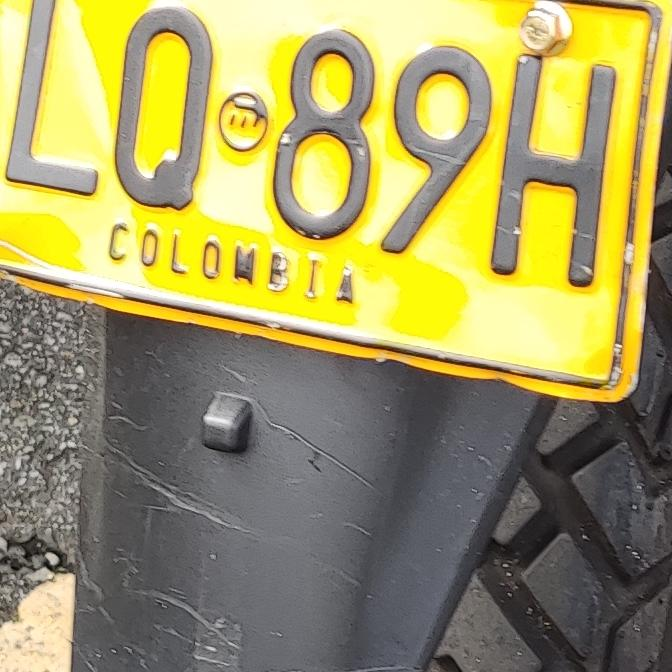plates: (0, 0, 668, 408)
